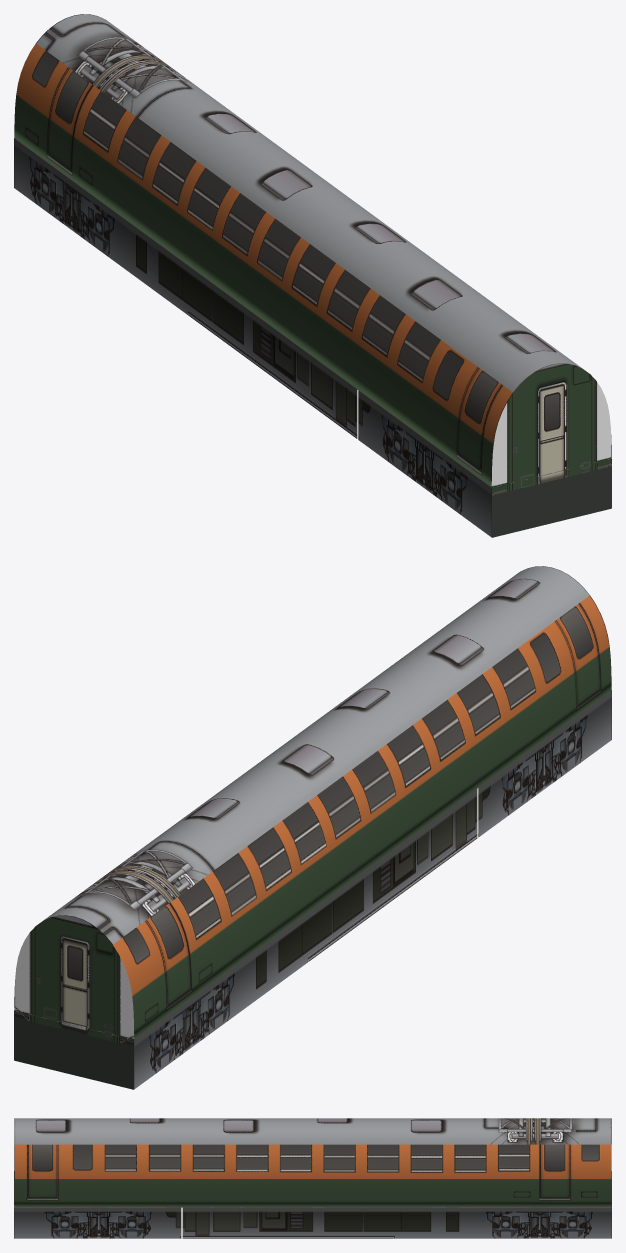
File: car2.glb
3 views of the same model, one above another, from view 1: azimuth 30°, elevation 25°; view 2: azimuth 150°, elevation 25°; view 3: azimuth 270°, elevation 25° (orthographic). The views are drawn at different scales.
Visible parts, largest first — view 1: jnr-155-car2; view 2: jnr-155-car2; view 3: jnr-155-car2.
Part boxes in pixels (x1,y1,x2,y2): jnr-155-car2: (14, 14, 611, 537); jnr-155-car2: (14, 566, 611, 1089); jnr-155-car2: (14, 1118, 611, 1238).
Bounding box in the file's own units: 2.9 × 3.65 × 20.03.
Materials: 9 (8 with a texture image).
